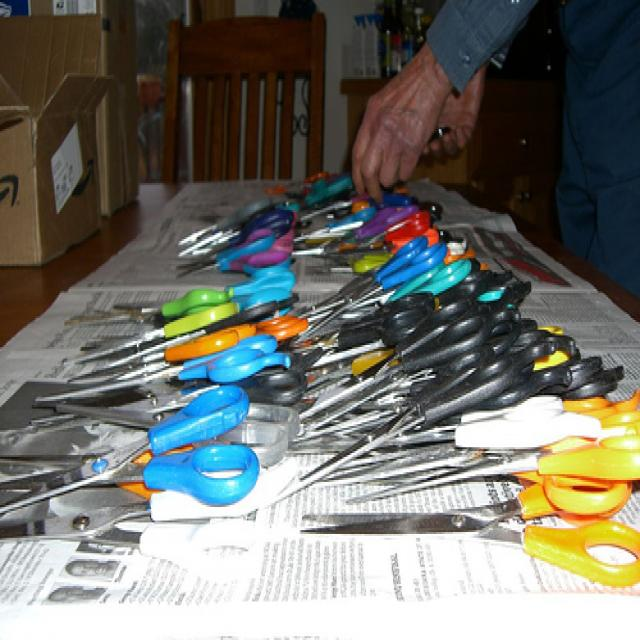chair: (160, 11, 327, 183)
dining table: (1, 185, 640, 612)
